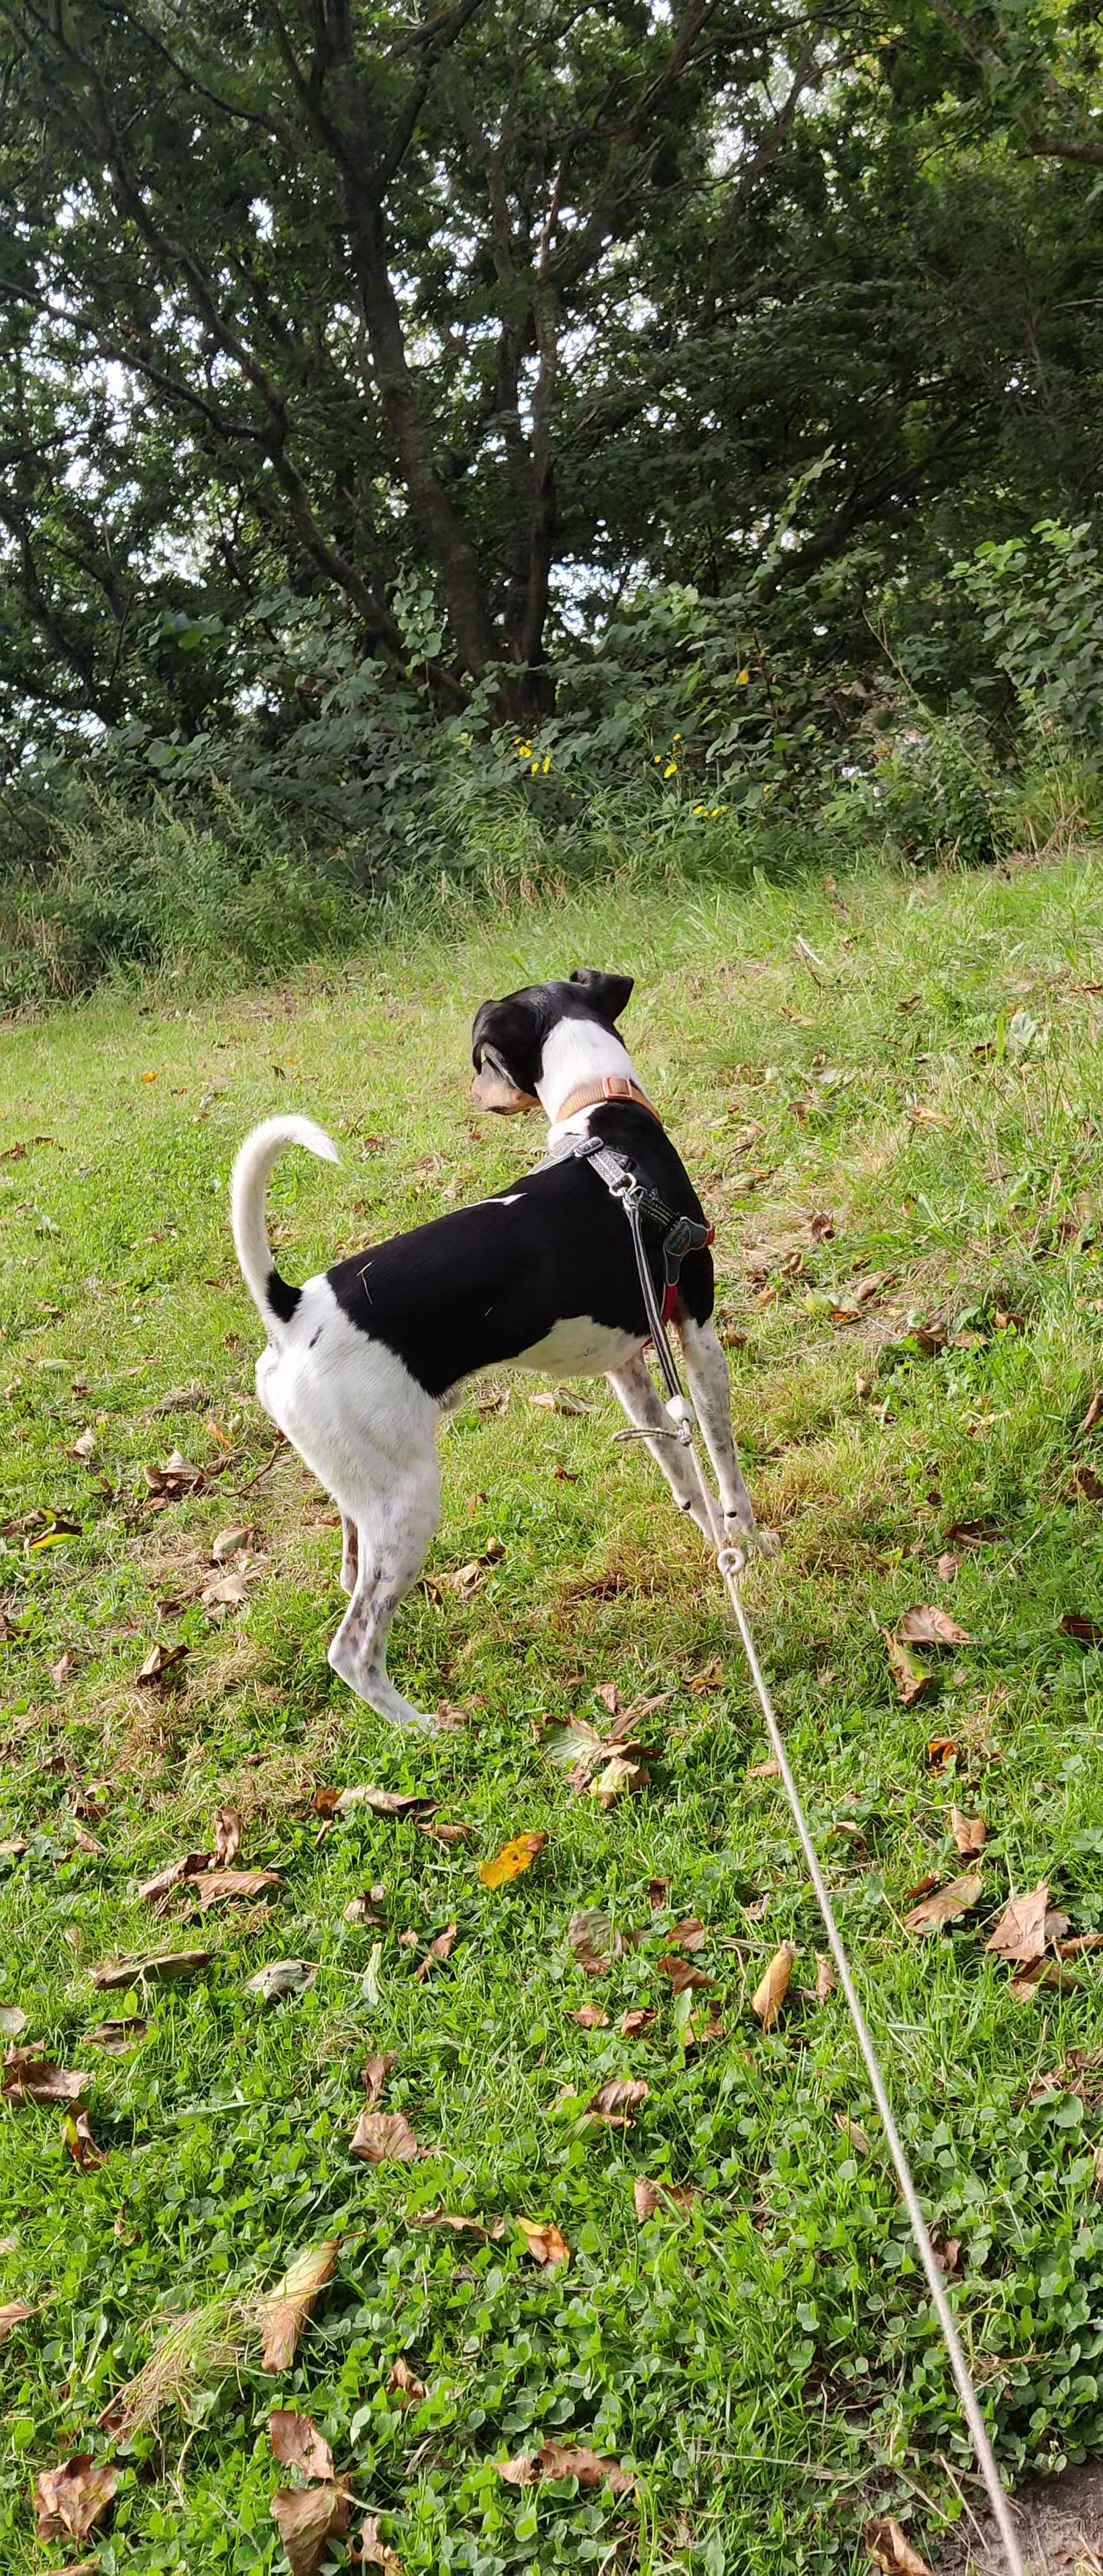Dog: (199, 958, 786, 1750)
